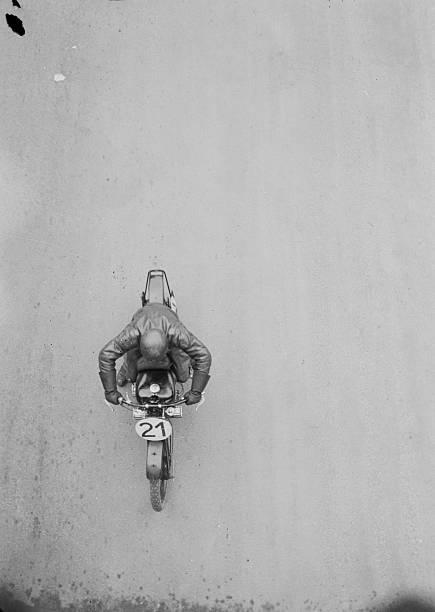Motorcycle: (116, 270, 214, 515)
